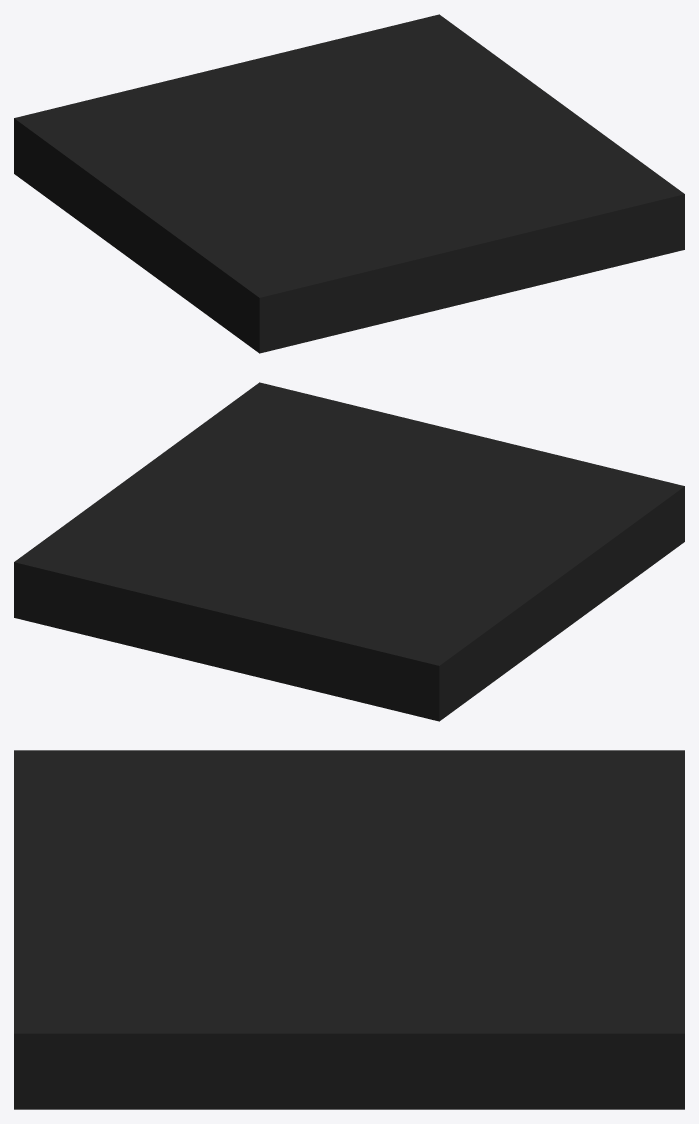
Rendered from aeration.obj.
3 renders of one model, top to bottom at view 1: azimuth 30°, elevation 25°; view 2: azimuth 150°, elevation 25°; view 3: azimuth 270°, elevation 25°, orthographic. The views are drawn at different scales.
Parts seen in each view (by area): view 1: aeration; view 2: aeration; view 3: aeration.
Part boxes in pixels (x1,y1,x2,y2): aeration: (14, 14, 684, 353); aeration: (14, 382, 684, 721); aeration: (14, 750, 684, 1109).
Size of the model in its own units: 40 by 5 by 40.
1 material, 1 textured.
